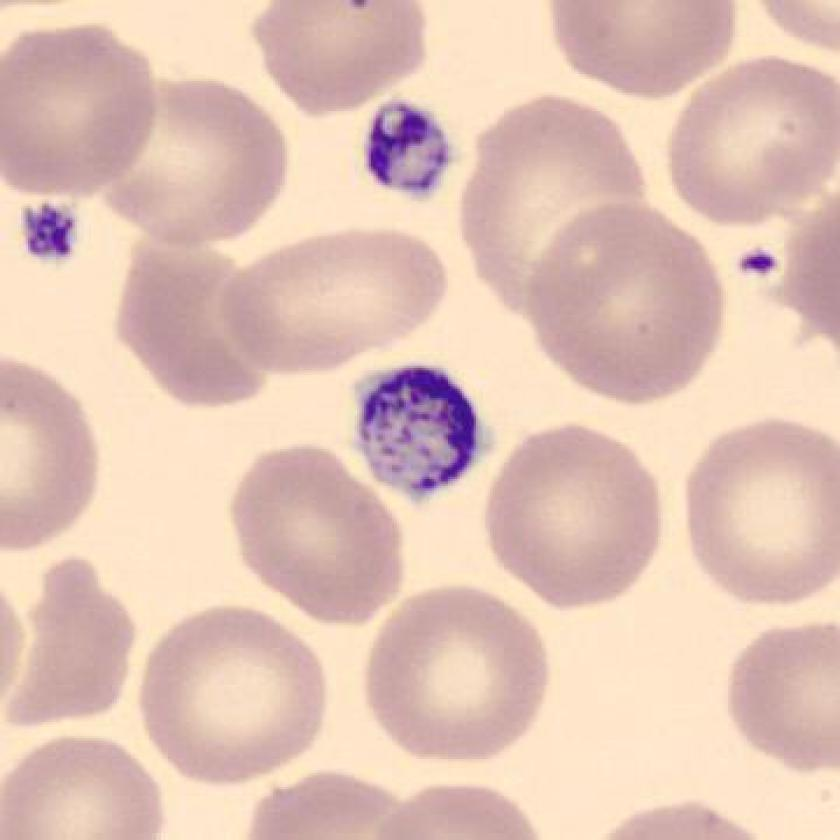platelets: (339, 357, 496, 510), (351, 87, 463, 209), (6, 184, 97, 281)
